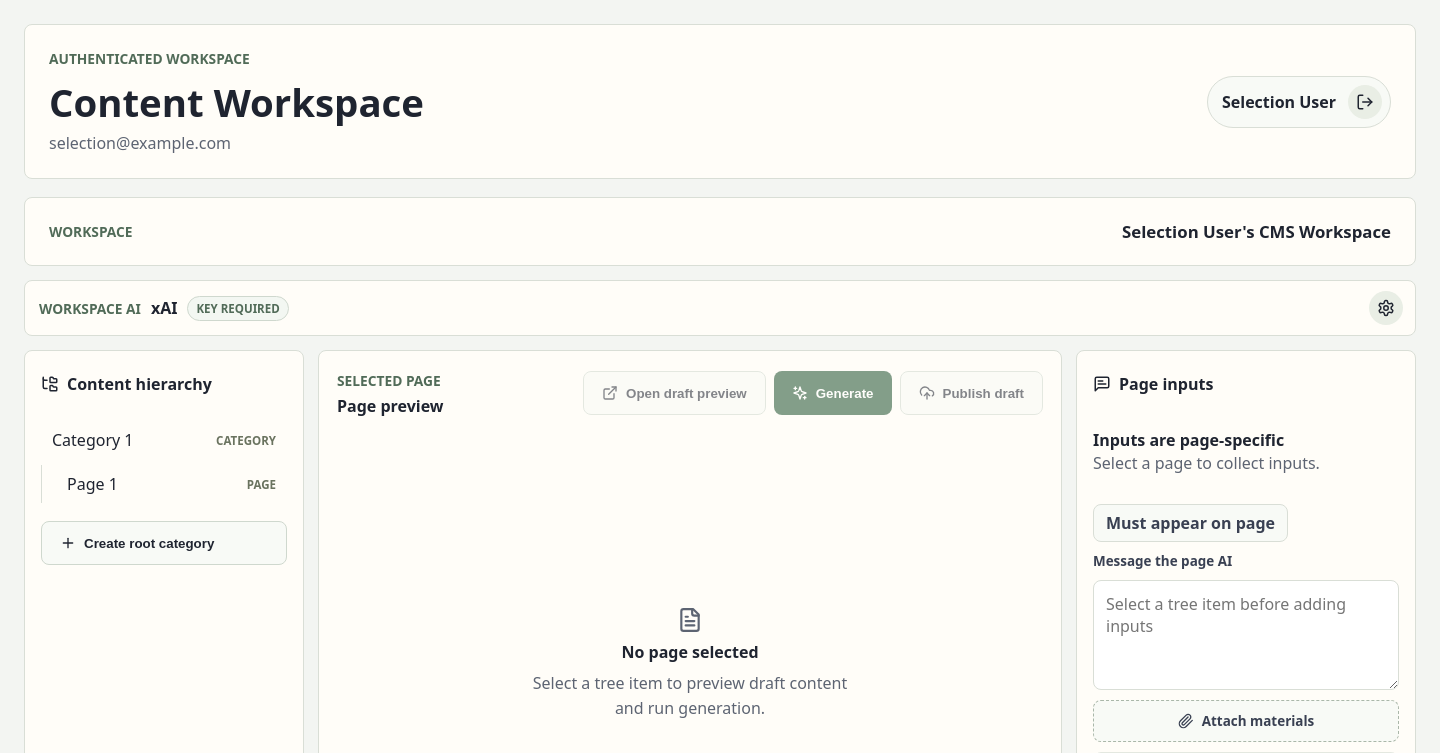
Test: page selection and context loading › selecting a category loads page context and category creation options
expect the button "Page 1 page" is shown: met, box [56, 465, 287, 503]
What coordinates should you click on to do the following:
click the button "Category 1 category"
I would click on:
 (164, 440)
Its box is [41, 421, 287, 459].
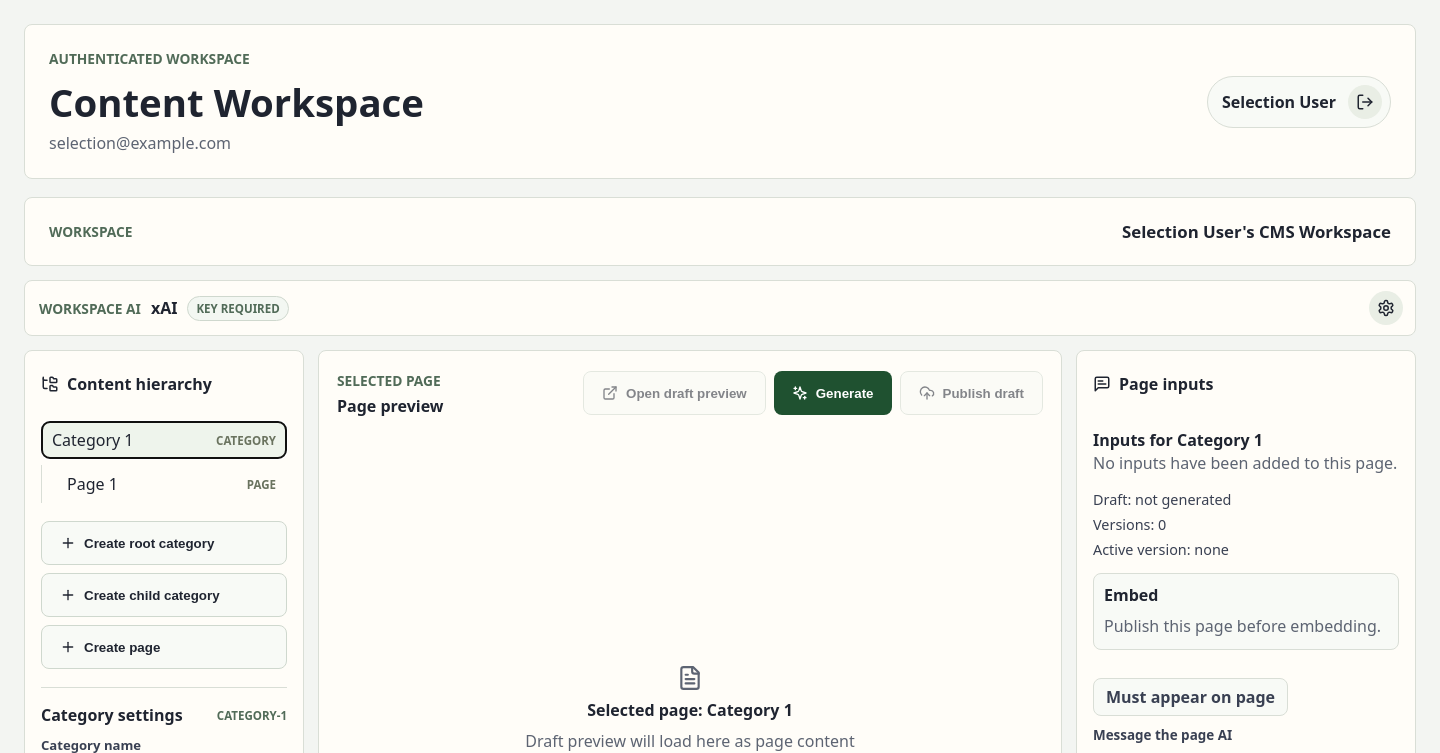
expect the text "Selected page: Category 1" is shown: met, box [587, 699, 793, 721]
expect the text "Inputs for Category 1" is shown: met, box [1093, 429, 1263, 451]
expect the button "Generate" is enabled: met, box [774, 371, 892, 415]
